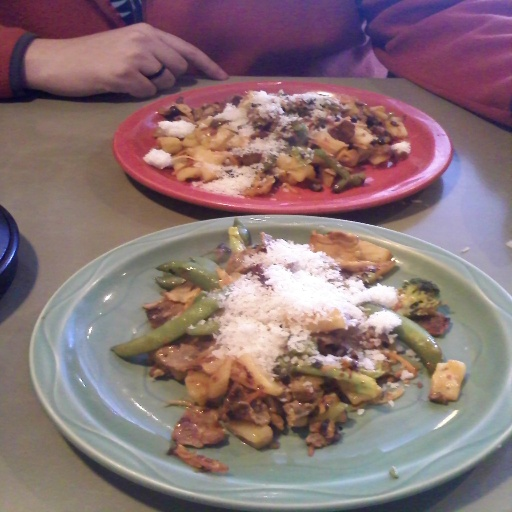hand: (2, 15, 222, 103)
